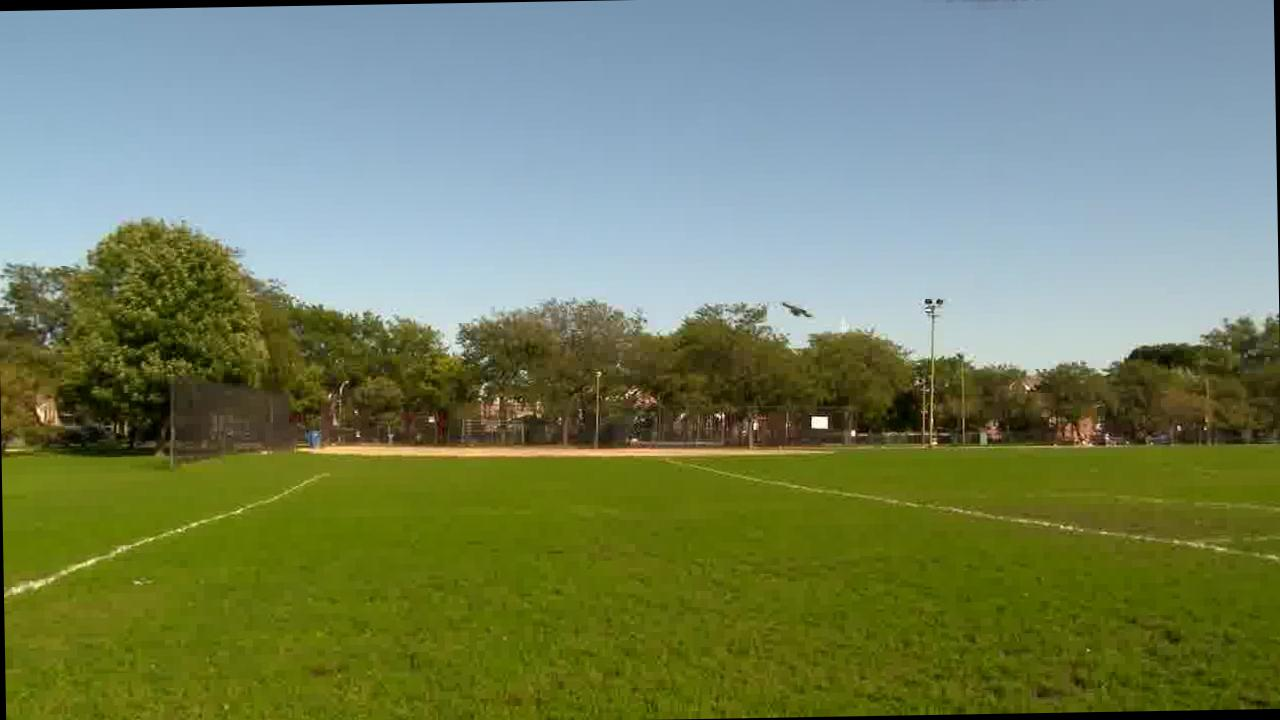drone: (780, 288, 821, 330)
